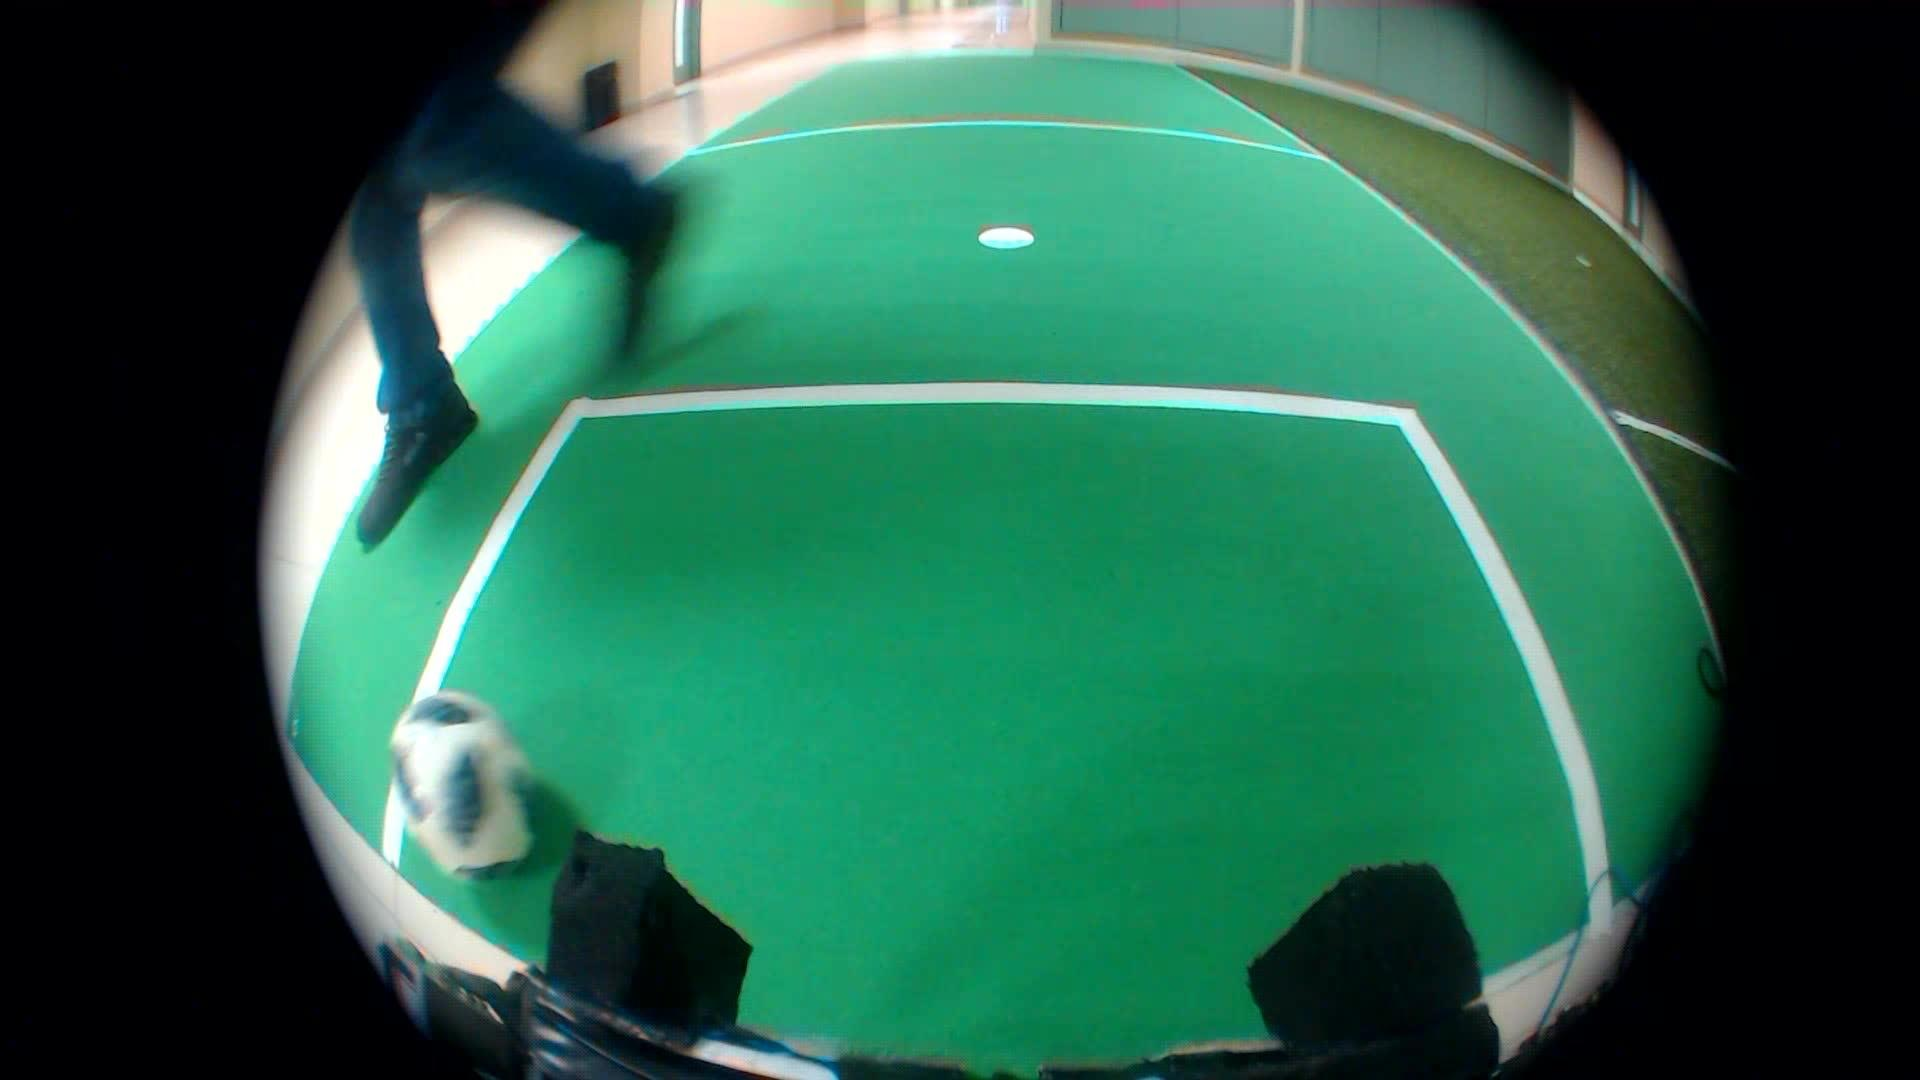ball: (371, 688, 551, 901)
